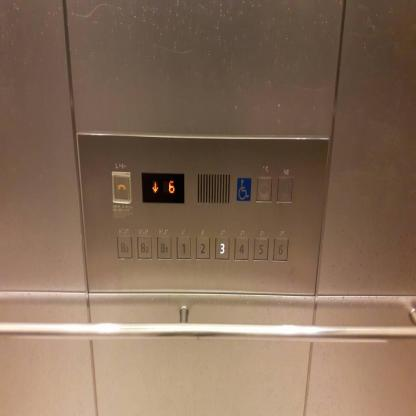1: (175, 234, 192, 261)
2: (194, 233, 211, 261)
3: (214, 233, 230, 261)
4: (233, 234, 250, 262)
5: (252, 235, 270, 262)
6: (272, 235, 289, 263)
B1: (156, 233, 172, 261)
B2: (136, 234, 153, 261)
B3: (115, 233, 133, 260)
CH: (235, 174, 252, 202)
call: (110, 168, 133, 206)
close: (275, 174, 294, 204)
led: (140, 170, 186, 205)
open: (255, 174, 273, 204)
